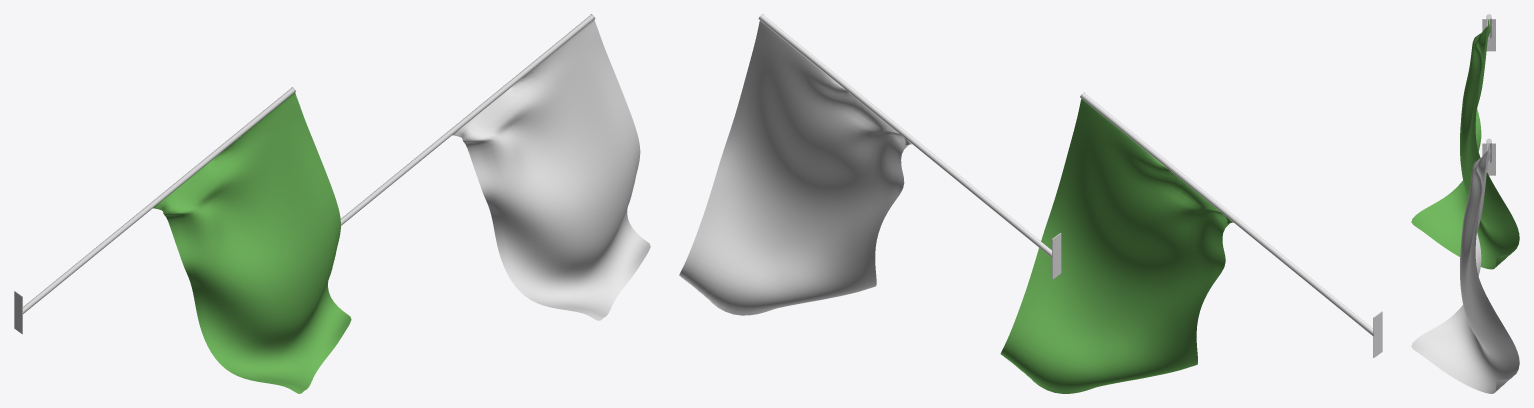
Rendered from flags.fbx.
3 views of the same model, side by side, from view 1: azimuth 30°, elevation 25°; view 2: azimuth 150°, elevation 25°; view 3: azimuth 270°, elevation 25° (orthographic). The views are drawn at different scales.
Parts seen in each view (by area): view 1: flag1cloth, flag1cloth.001, carcas1.001, carcas1; view 2: flag1cloth, flag1cloth.001, carcas1, carcas1.001; view 3: flag1cloth, flag1cloth.001, carcas1.001, carcas1.
Part boxes in pixels (x1=…): flag1cloth: x1=452, y1=19, x2=650, y2=320; flag1cloth.001: x1=153, y1=92, x2=351, y2=393; carcas1.001: x1=14, y1=87, x2=295, y2=334; carcas1: x1=340, y1=14, x2=595, y2=225; flag1cloth: x1=679, y1=20, x2=911, y2=315; flag1cloth.001: x1=1000, y1=98, x2=1233, y2=393; carcas1: x1=758, y1=14, x2=1061, y2=279; carcas1.001: x1=1080, y1=92, x2=1382, y2=357; flag1cloth: x1=1411, y1=144, x2=1519, y2=393; flag1cloth.001: x1=1411, y1=19, x2=1519, y2=269; carcas1.001: x1=1482, y1=14, x2=1495, y2=51; carcas1: x1=1482, y1=138, x2=1495, y2=175.
Size of the model in its own units: 988 by 426 by 170.
